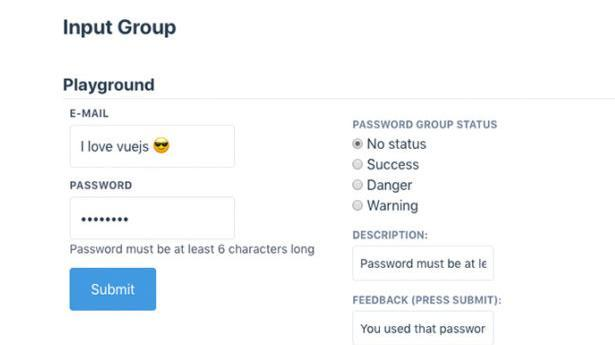button: (70, 268, 157, 312)
input: (72, 125, 237, 166), (70, 200, 238, 240), (353, 248, 495, 281), (354, 312, 495, 345)
label: (64, 14, 180, 42), (348, 113, 501, 133), (352, 291, 503, 309), (63, 73, 161, 98), (351, 227, 430, 246), (366, 137, 430, 153), (368, 197, 420, 215), (70, 180, 136, 194), (367, 157, 424, 173), (368, 178, 416, 193), (70, 107, 112, 121)
radio: (352, 200, 364, 214), (352, 178, 363, 193), (353, 137, 364, 151), (353, 159, 365, 171)
